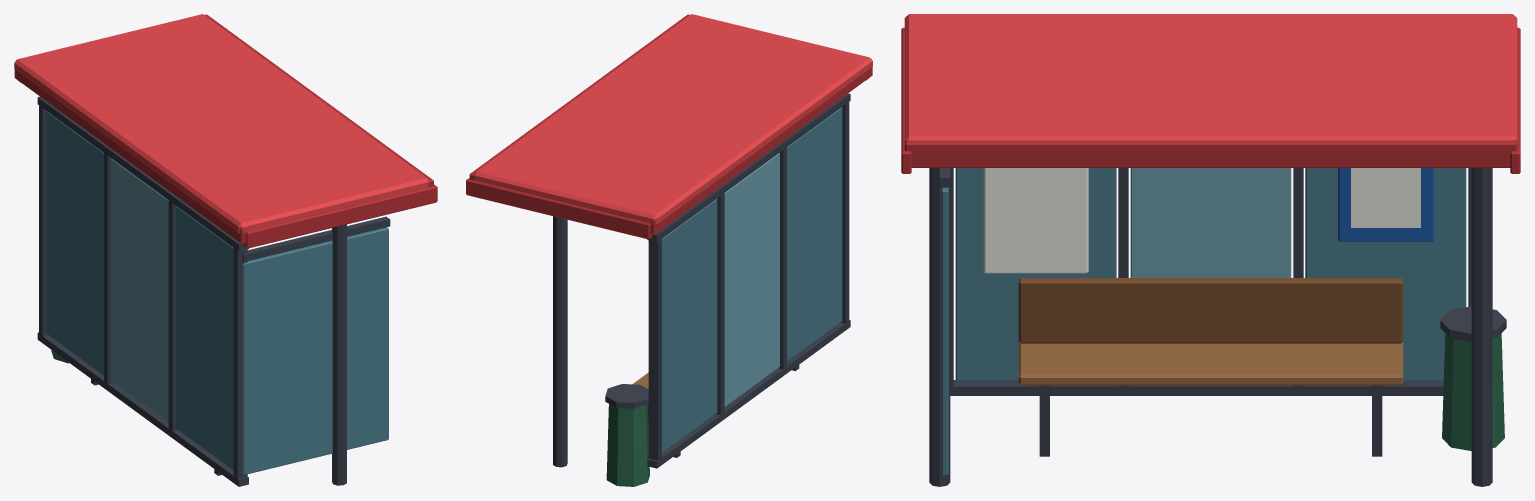
The model's file is shelter.glb.
3 views of the same model, side by side, from view 1: azimuth 30°, elevation 25°; view 2: azimuth 150°, elevation 25°; view 3: azimuth 270°, elevation 25° (orthographic). The views are drawn at different scales.
Parts seen in each view (by area): view 1: shelter; view 2: shelter; view 3: shelter.
Part boxes in pixels (x1,y1,x2,y2): shelter: [14, 14, 437, 486]; shelter: [466, 14, 872, 486]; shelter: [901, 14, 1520, 486].
Size of the model in its own units: 1.75 by 2.5 by 3.54.
